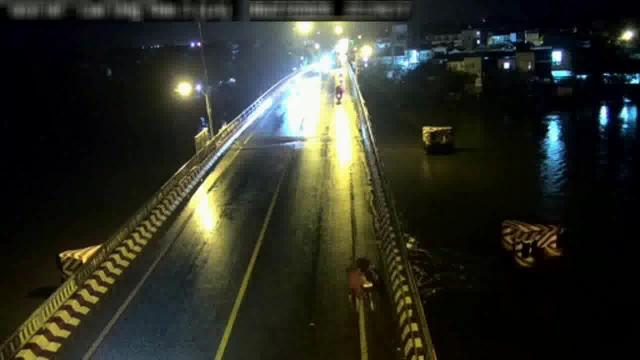Bike: (332, 85, 346, 102)
